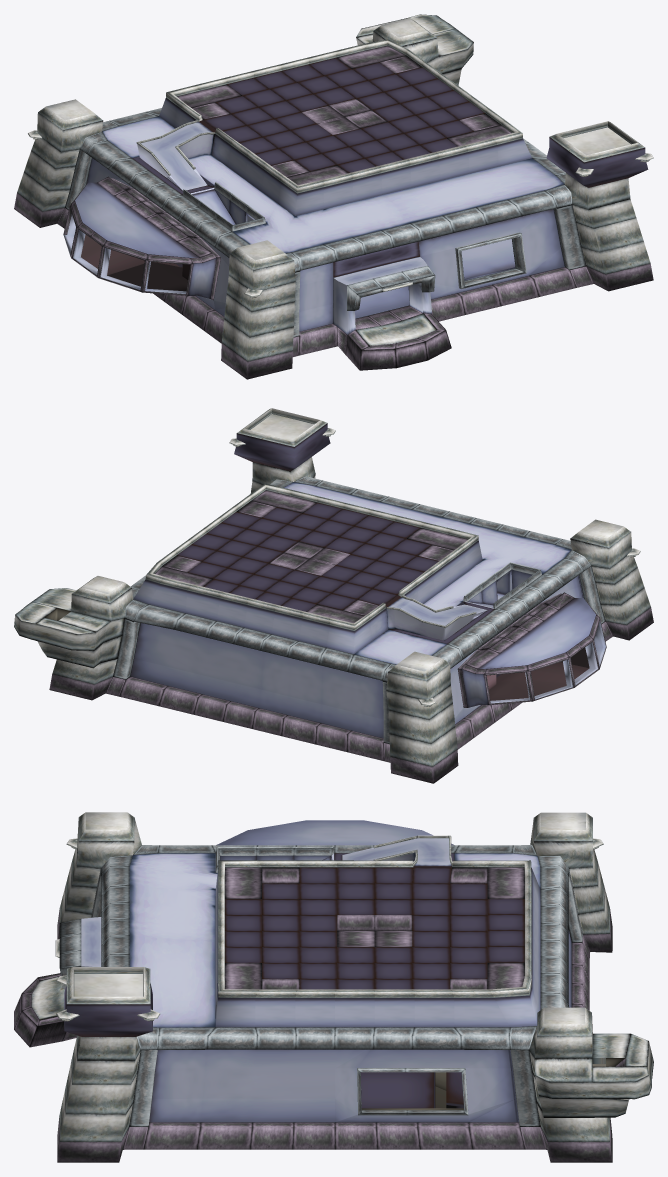
Rendered from station_runway_100m.DAE.
3 views of the same model, one above another, from view 1: azimuth 30°, elevation 25°; view 2: azimuth 150°, elevation 25°; view 3: azimuth 270°, elevation 25° (orthographic). The views are drawn at different scales.
Visible parts, largest first — view 1: Box02; view 2: Box02; view 3: Box02.
Part boxes in pixels (bbox=[...]): Box02: bbox=[14, 14, 653, 379]; Box02: bbox=[14, 408, 653, 783]; Box02: bbox=[14, 812, 653, 1162].
Bounding box in the file's own units: 132 × 37.34 × 128.
